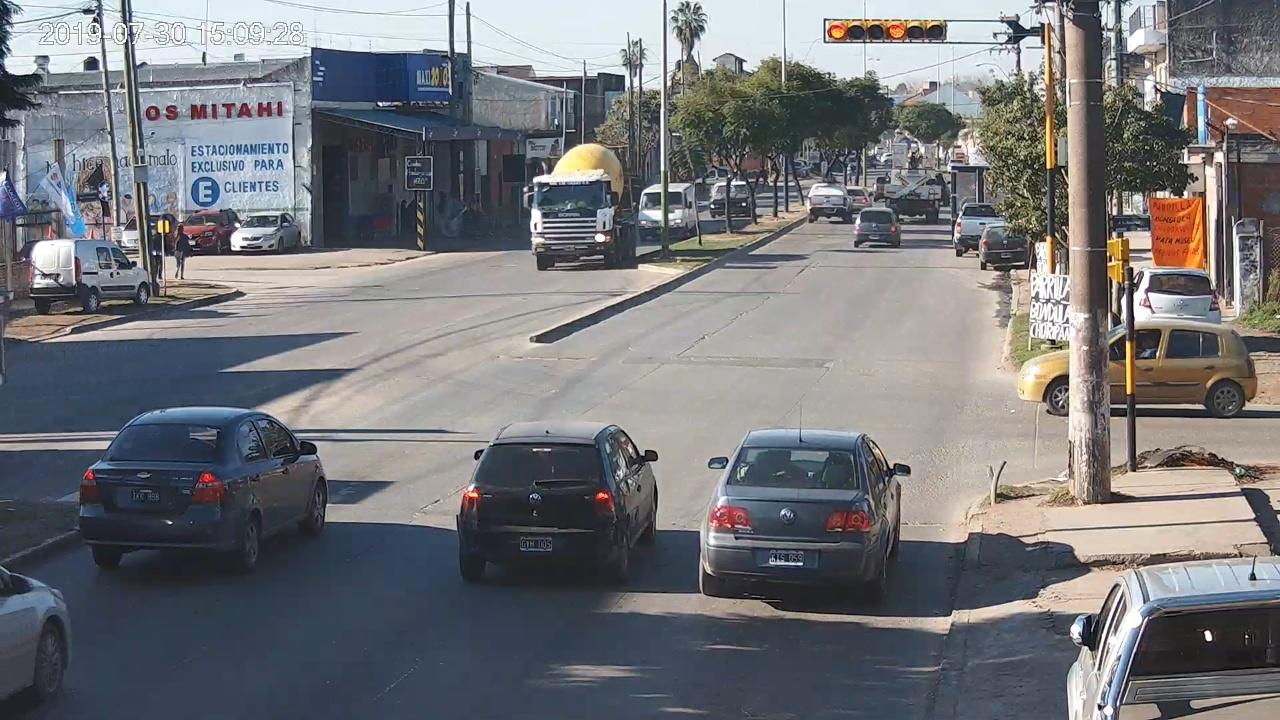car: (81, 405, 329, 569), (699, 429, 911, 602), (458, 422, 659, 583)
front truck: (524, 143, 638, 271)
traffic light: (826, 17, 947, 43)
